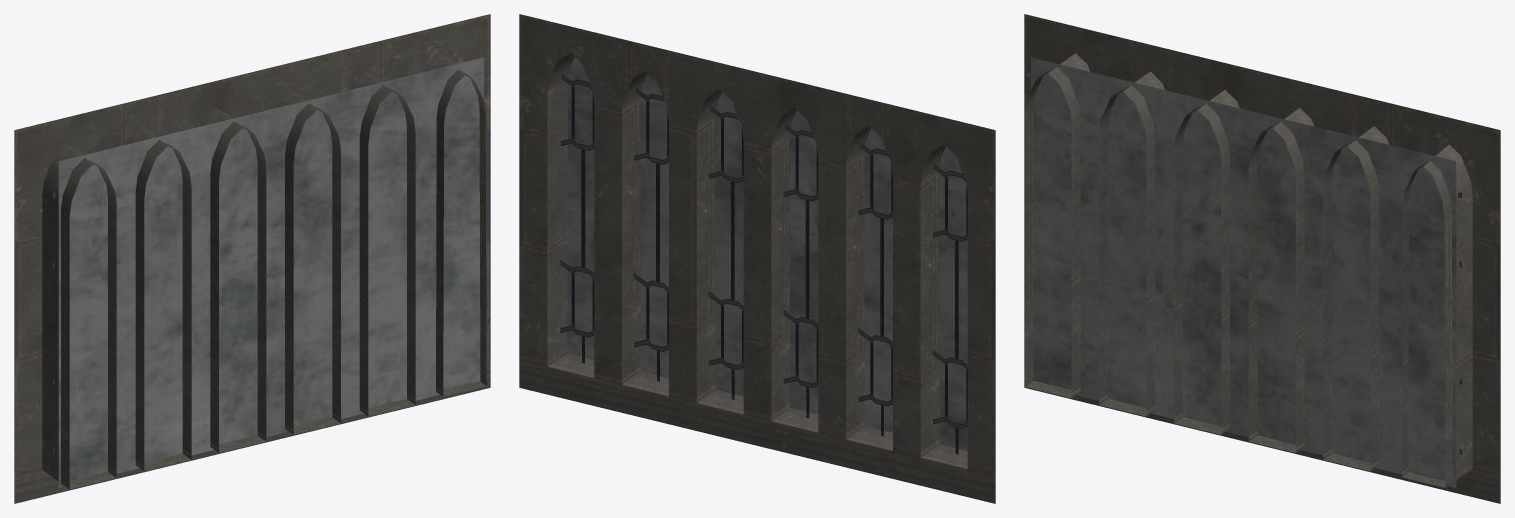
File: ARC0910077.fbx
The picture shows the model from 3 angles, left to right: view 1: azimuth 30°, elevation 25°; view 2: azimuth 150°, elevation 25°; view 3: azimuth 330°, elevation 25°; orthographic projection.
Parts seen in each view (by area): view 1: smARC0910077; view 2: smARC0910077; view 3: smARC0910077.
Part boxes in pixels (x1,y1,x2,y2): smARC0910077: [14, 14, 490, 503]; smARC0910077: [519, 14, 995, 503]; smARC0910077: [1024, 14, 1500, 503].
Size of the model in its own units: 400 by 300 by 40.
1 material, 1 textured.
